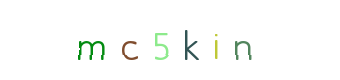5: (121, 0, 201, 80)
C: (88, 0, 168, 80)
I: (163, 0, 243, 80)
K: (130, 0, 210, 80)
M: (51, 0, 131, 80)
N: (176, 0, 256, 80)
